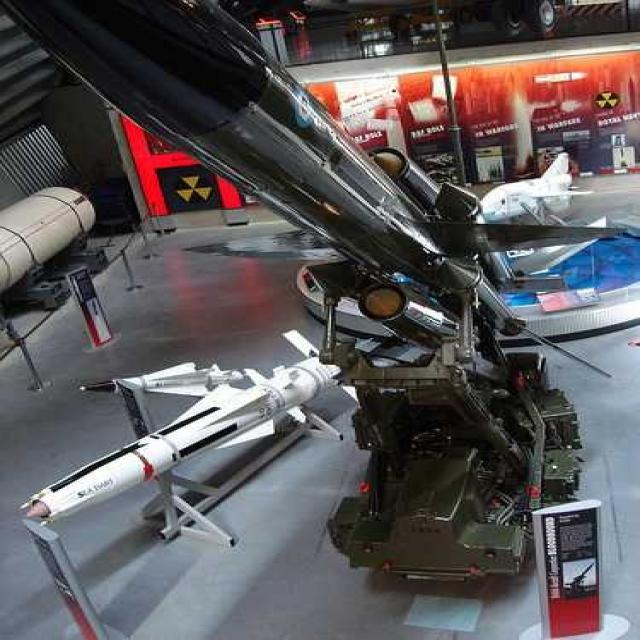missile: (0, 0, 528, 343), (32, 344, 336, 522), (86, 358, 252, 396)
